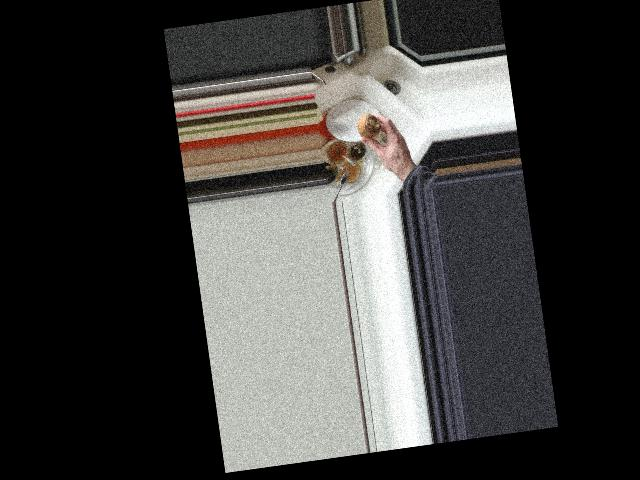sweet_potato: (354, 111, 384, 145)
